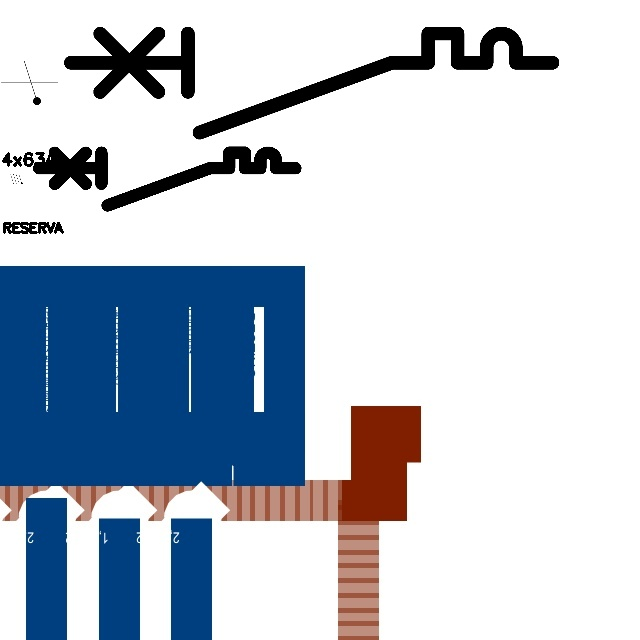interruptor_termomagnetico: (58, 21, 564, 145), (32, 146, 301, 212)
